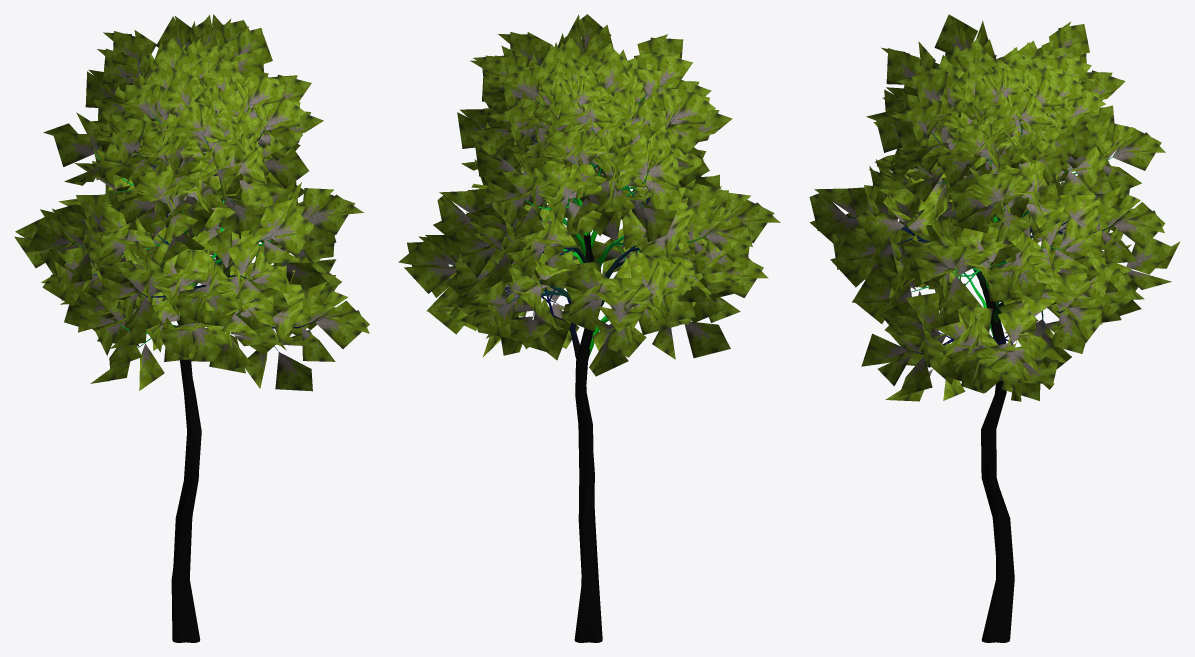
The model's file is ElmTree04.fbx.
3 views of the same model, side by side, from view 1: azimuth 30°, elevation 25°; view 2: azimuth 150°, elevation 25°; view 3: azimuth 270°, elevation 25° (orthographic).
Parts seen in each view (by area): view 1: Tree_1, Tree_0; view 2: Tree_1, Tree_0; view 3: Tree_1, Tree_0.
Boxes of the visible parts, x1=… form: Tree_1: x1=14, y1=14, x2=369, y2=391; Tree_0: x1=72, y1=68, x2=324, y2=642; Tree_1: x1=398, y1=14, x2=780, y2=376; Tree_0: x1=451, y1=93, x2=711, y2=642; Tree_1: x1=809, y1=14, x2=1180, y2=401; Tree_0: x1=849, y1=95, x2=1121, y2=642.
Bounding box in the file's own units: 62.51 × 109 × 60.96.
